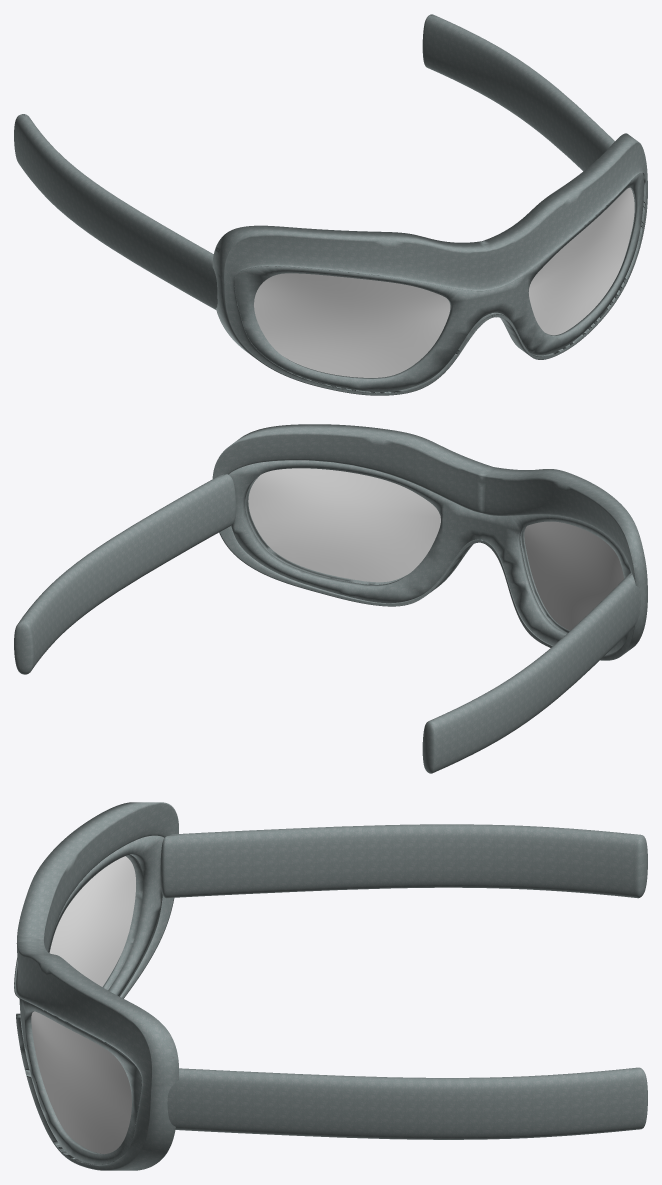
File: msv.glb
3 renders of one model, top to bottom at view 1: azimuth 30°, elevation 25°; view 2: azimuth 150°, elevation 25°; view 3: azimuth 270°, elevation 25°, orthographic. The views are drawn at different scales.
Visible parts, largest first — view 1: pour 3D.007; view 2: pour 3D.007; view 3: pour 3D.007.
Boxes of the visible parts, <box> form: pour 3D.007: <box>14,14,647,395</box>; pour 3D.007: <box>14,424,647,773</box>; pour 3D.007: <box>14,802,647,1170</box>.
Bounding box in the file's own units: 48.85 × 16.9 × 49.84.
2 materials, 1 textured.
